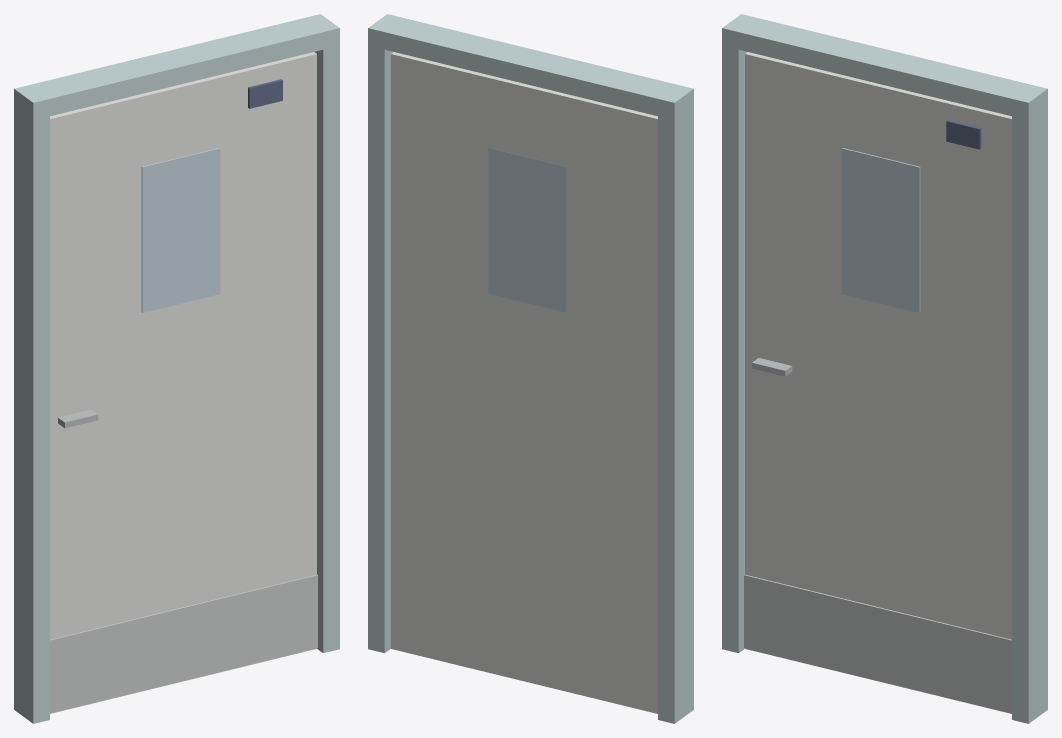
The model's file is Hospital_door.glb.
3 views of the same model, side by side, from view 1: azimuth 30°, elevation 25°; view 2: azimuth 150°, elevation 25°; view 3: azimuth 330°, elevation 25° (orthographic).
Parts seen in each view (by area): view 1: Hospital_door; view 2: Hospital_door; view 3: Hospital_door.
Part boxes in pixels (x1,y1,x2,y2): Hospital_door: [14, 14, 339, 723]; Hospital_door: [368, 14, 693, 723]; Hospital_door: [722, 14, 1047, 723].
Bounding box in the file's own units: 1.1 × 2.13 × 0.125.
